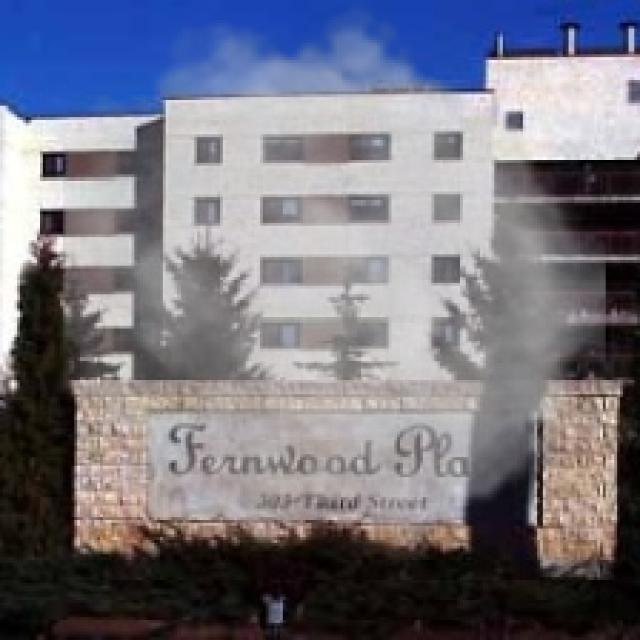smoke: (63, 3, 606, 566)
